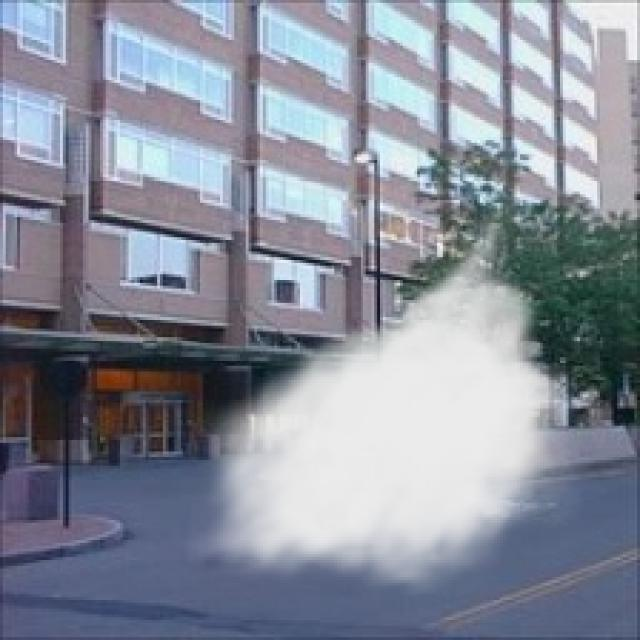smoke: (185, 200, 586, 597)
